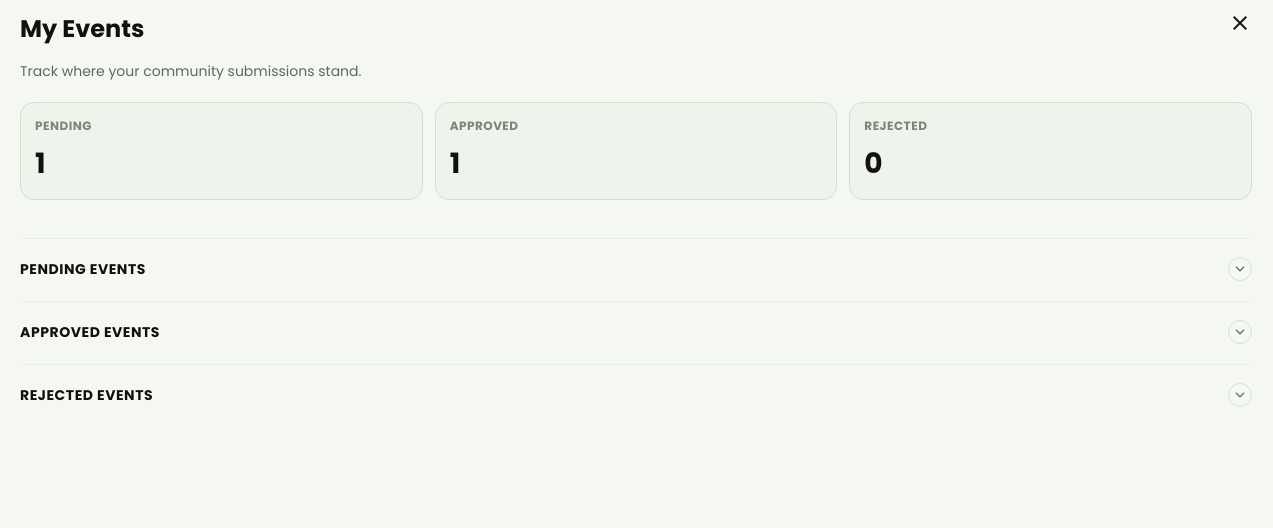
Test: MyEvents › groups pending and approved events
Expected: the text "Pending Events" is shown, [20, 259, 146, 279]
Expected: the text "Approved Events" is shown, [20, 322, 160, 342]
Click the button "Pending Events" at (83, 269), box [20, 257, 1252, 281]
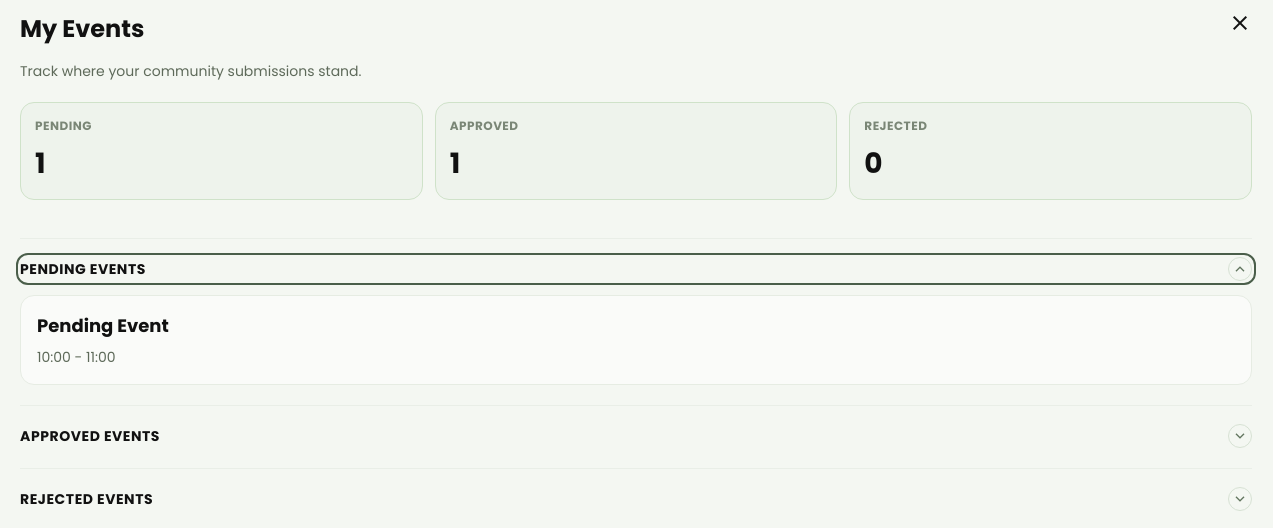
Result: the heading "Pending Event" is shown at [37, 313, 169, 338]
Click the button "Approved Events" at (90, 436), box [20, 424, 1252, 448]
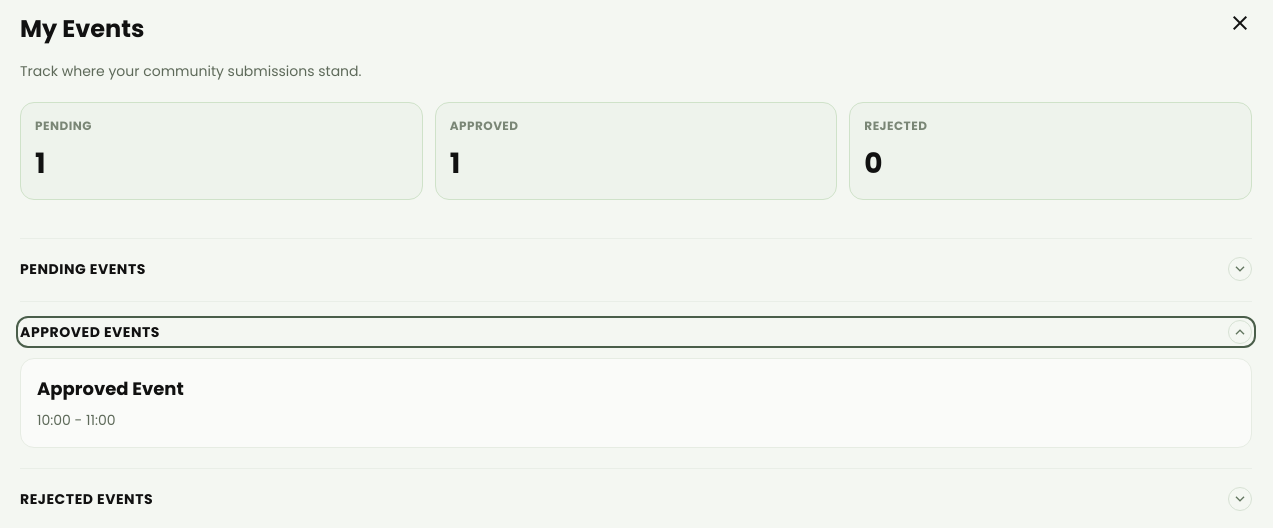
Result: the heading "Approved Event" is shown at [37, 376, 184, 401]
